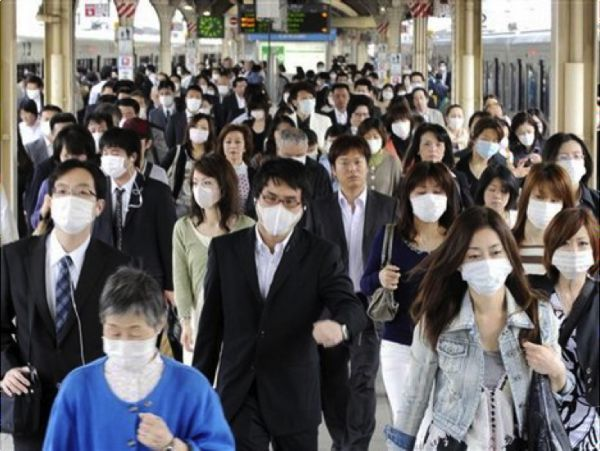mask: (462, 258, 510, 293), (555, 248, 592, 280), (257, 207, 298, 235), (408, 195, 450, 222)
